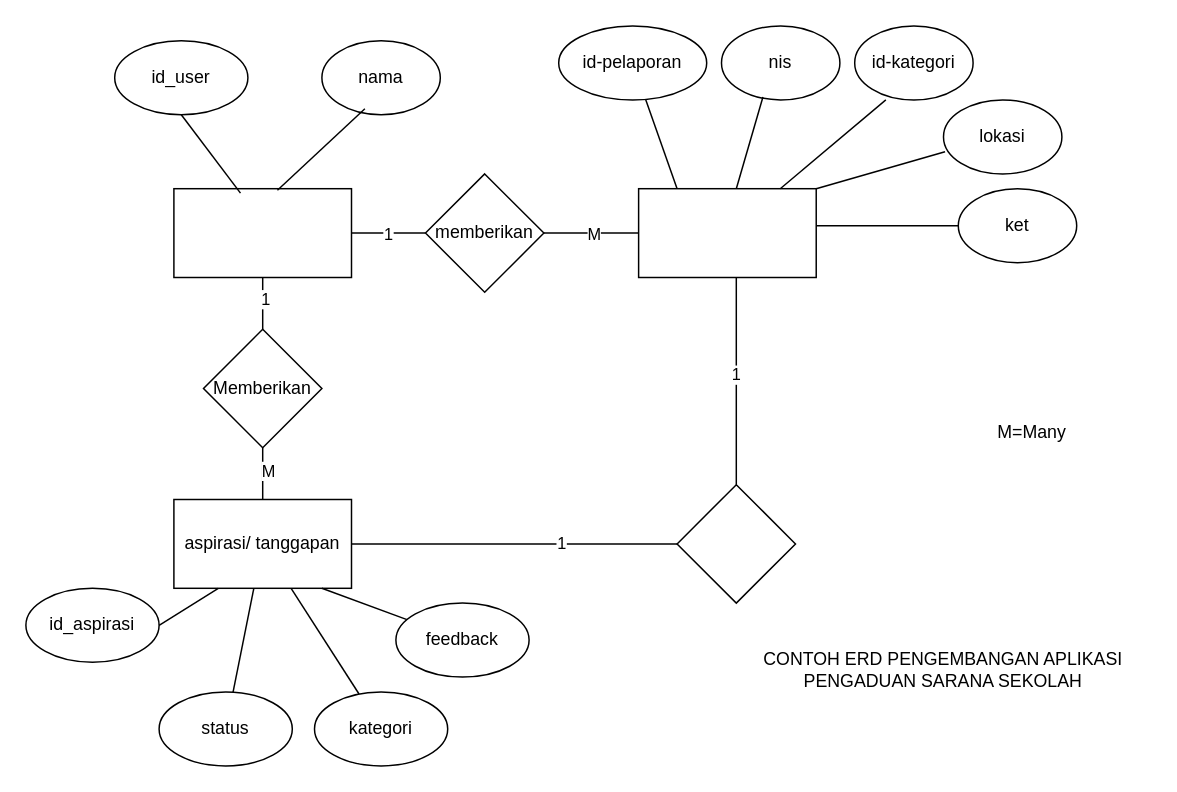
The diagram is 1177 pixels wide and 792 high, and some of its shapes have lost their labels. The box of each missing label's shape, as (x1, y1, x2, y2) in pixels:
mendapatkan: (676, 483, 796, 603)
pengaduan: (637, 187, 816, 278)
user: (172, 187, 352, 278)
